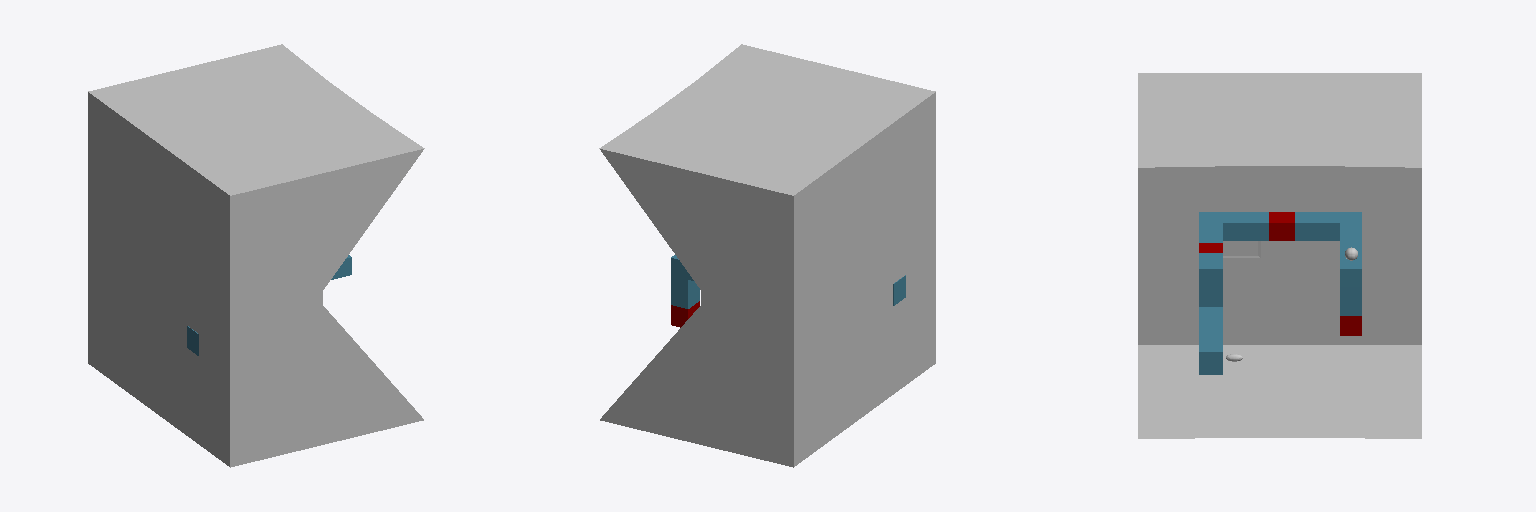
File: Platform_Level_2.obj
3 renders of one model, left to right at view 1: azimuth 30°, elevation 25°; view 2: azimuth 150°, elevation 25°; view 3: azimuth 270°, elevation 25°, orthographic.
Visible parts, largest first — view 1: Cube.008_Cube.015, Cube.007_Cube.014; view 2: Cube.008_Cube.015, Cube.007_Cube.014; view 3: Cube.008_Cube.015, Cube.007_Cube.014, Plane.002_Plane.004.
Part boxes in pixels (x1,y1,x2,y2): Cube.008_Cube.015: (88,44,424,467); Cube.007_Cube.014: (187,255,351,355); Cube.008_Cube.015: (599,44,935,467); Cube.007_Cube.014: (671,255,905,327); Cube.008_Cube.015: (1138,73,1421,438); Cube.007_Cube.014: (1199,212,1361,374); Plane.002_Plane.004: (1223,241,1260,257).
Bounding box in the file's own units: 13.07 × 17.39 × 16.53.